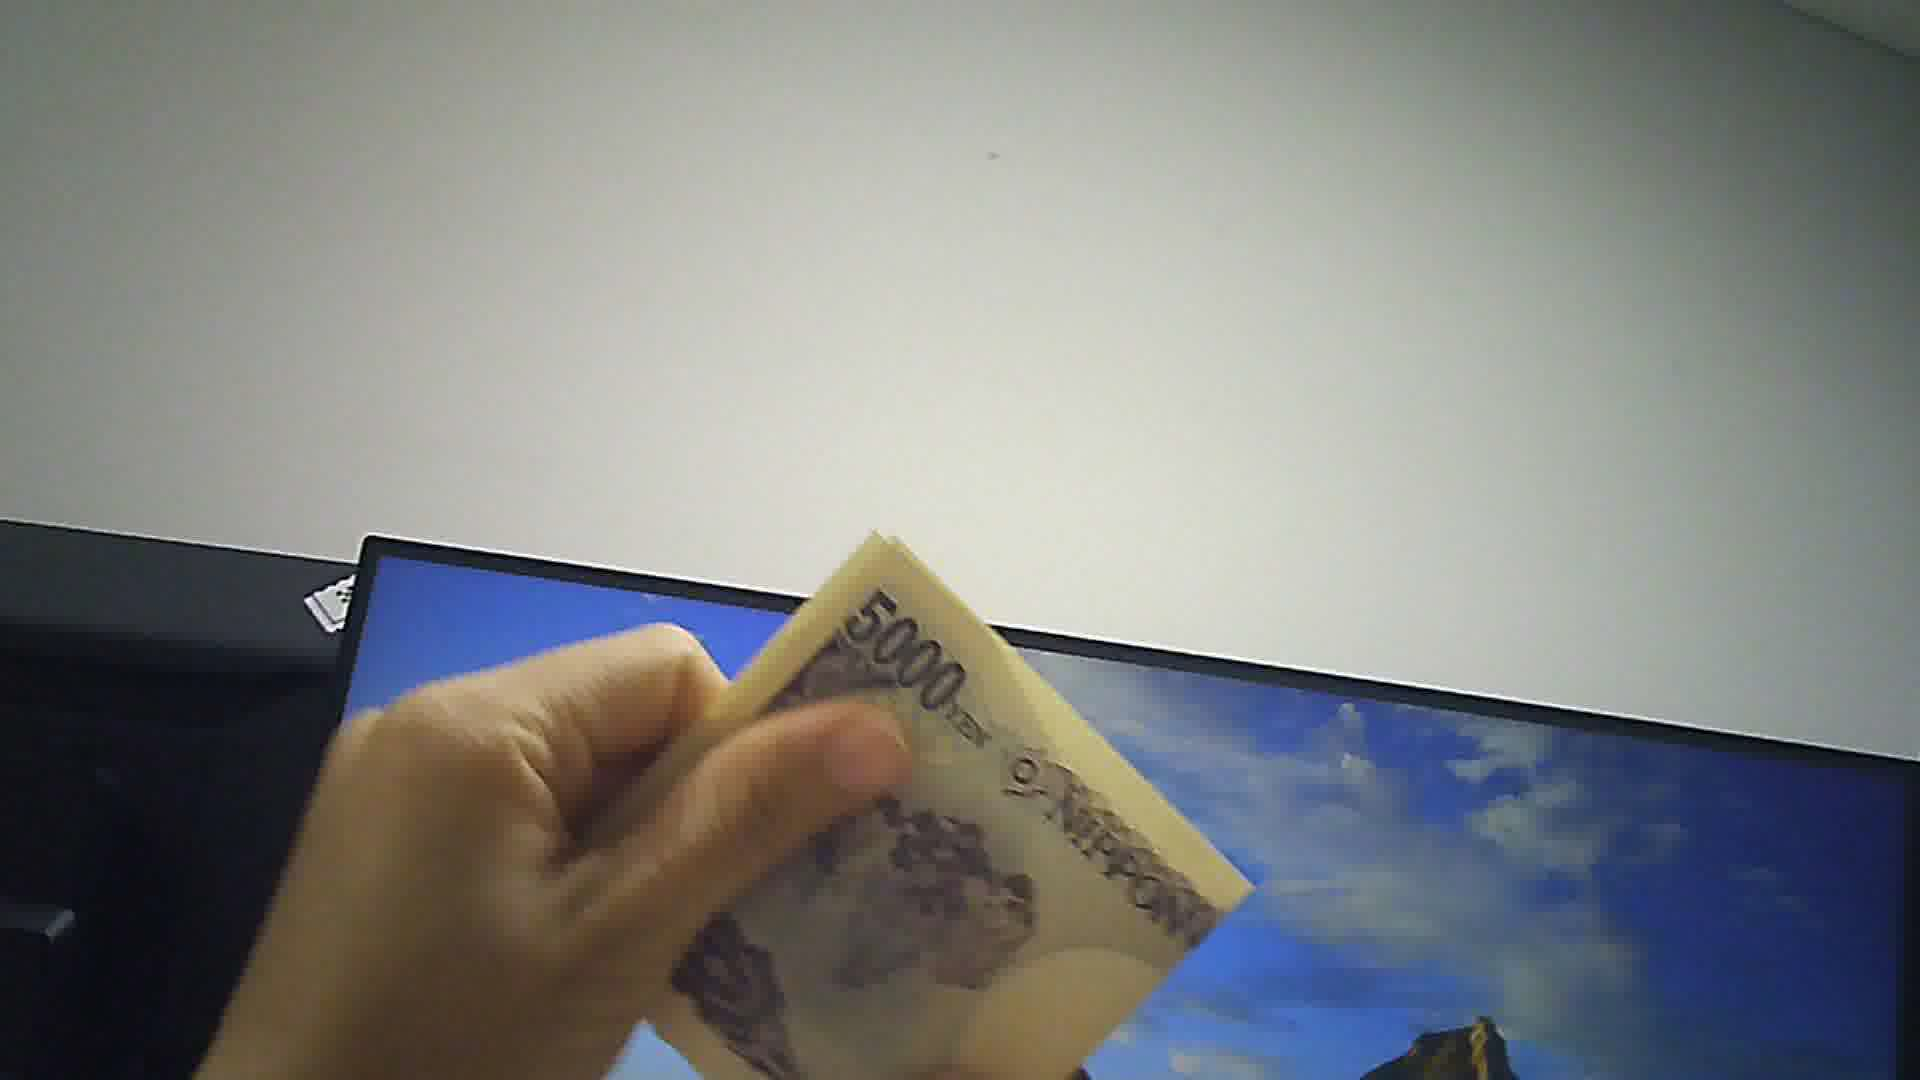5,000 Yen: (583, 518, 1251, 1069)
